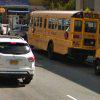Bus: (24, 5, 100, 65)
